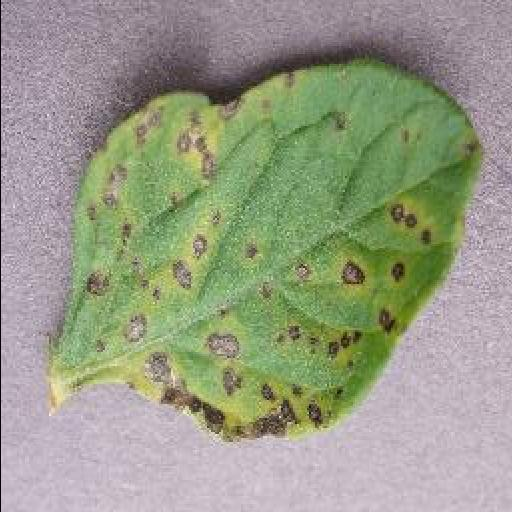disease_tomato: (53, 64, 487, 446)
